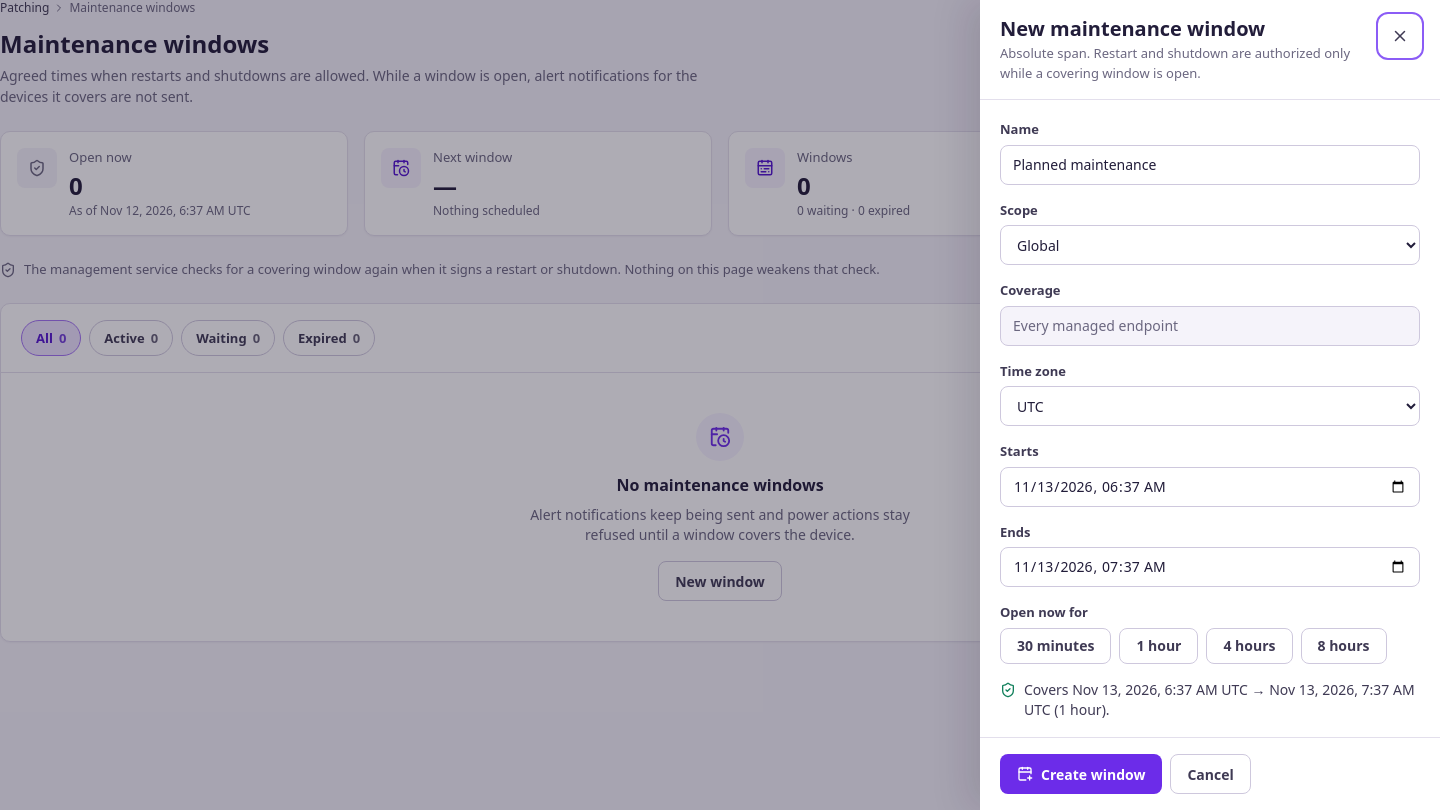
Test case: creating a future window never claims it is already open
Click the button "Create window": coordinates (1081, 774) [1000,754,1162,794]
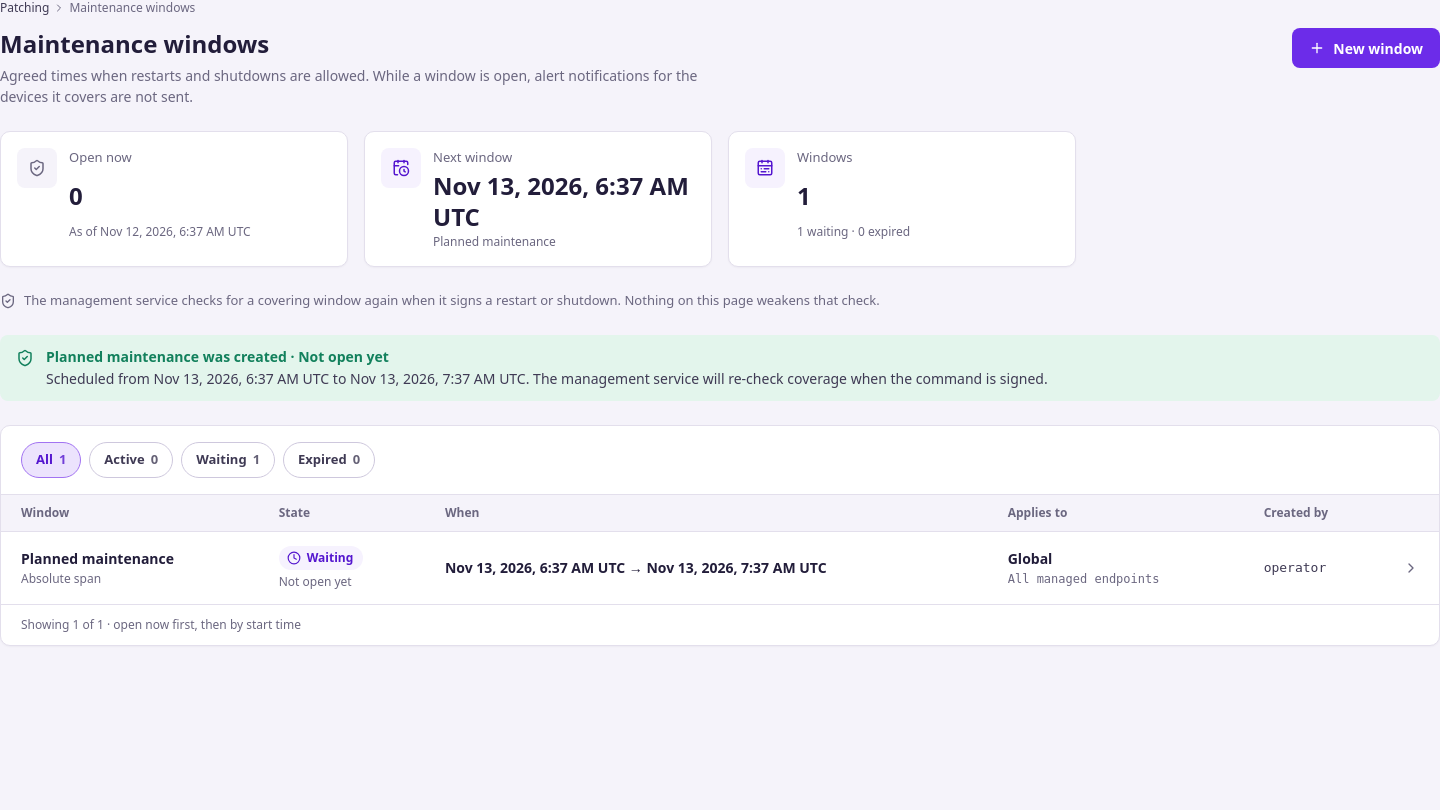
Now the text "Planned maintenance was created · Not open yet" is shown, box [46,347,389,366]
